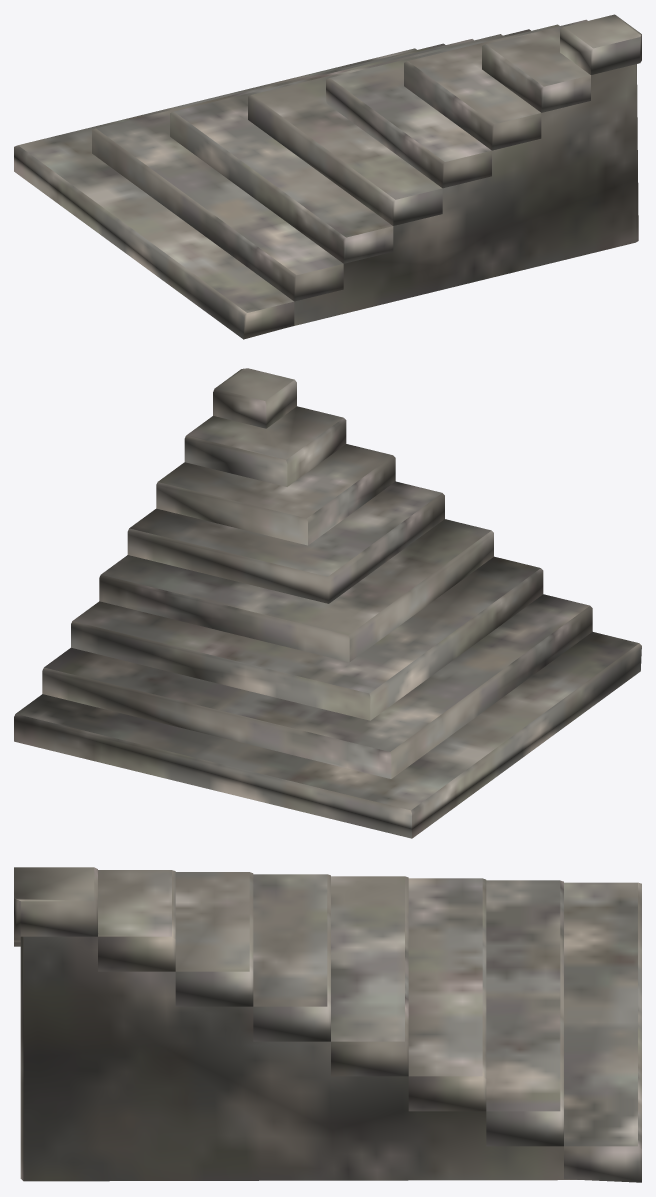
File: stonestaircorner.fbx
3 views of the same model, one above another, from view 1: azimuth 30°, elevation 25°; view 2: azimuth 150°, elevation 25°; view 3: azimuth 270°, elevation 25° (orthographic). The views are drawn at different scales.
Parts seen in each view (by area): view 1: StoneStair; view 2: StoneStair; view 3: StoneStair.
Boxes of the visible parts, left/top/right/bottom form: StoneStair: left=14, top=14, right=641, bottom=339; StoneStair: left=14, top=368, right=641, bottom=838; StoneStair: left=14, top=867, right=641, bottom=1182.
Size of what is drawn, in the model's own units: 202 by 100 by 202.
Materials: 1 (1 with a texture image).
